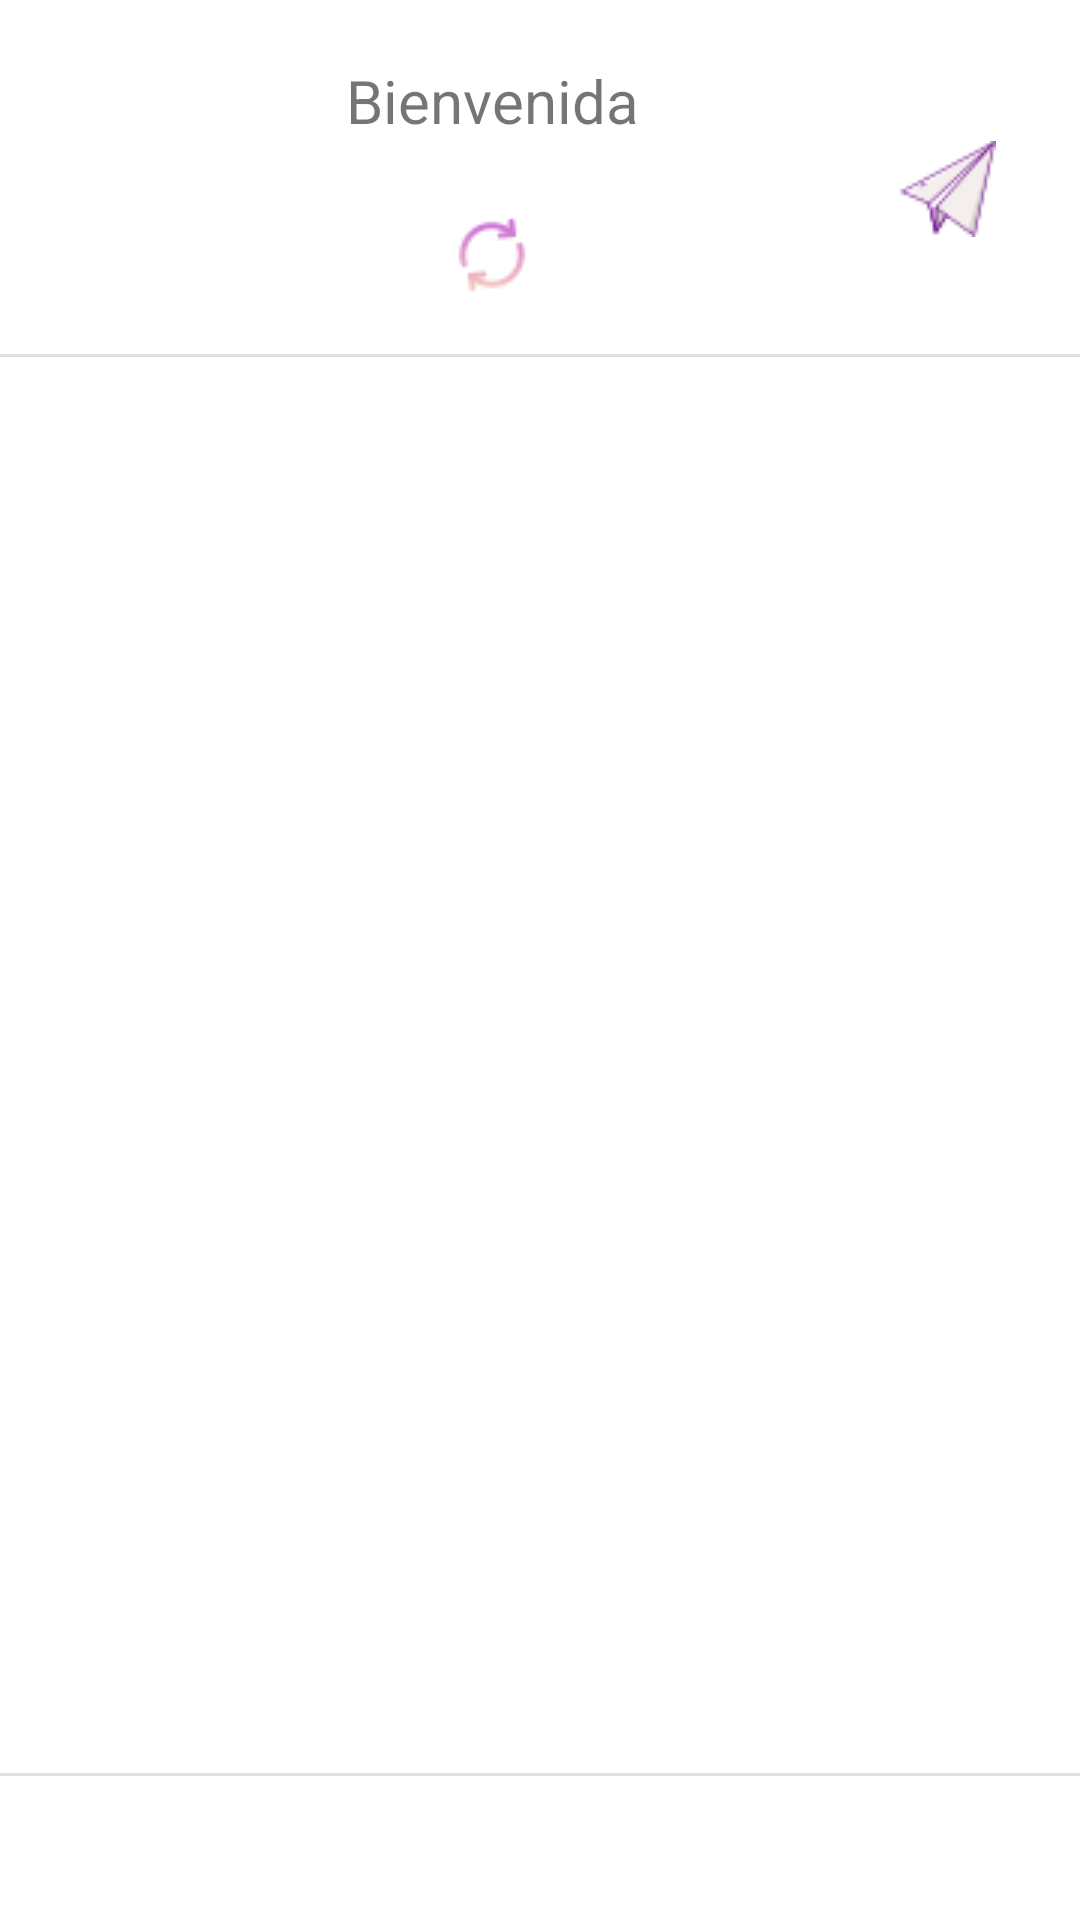

Icon bounding boxes for this 1080px x 1920px phone screenshot, format {"left": x1, "top": y1, "right": x2, "bottom": y2}:
publish: {"left": 900, "top": 141, "right": 996, "bottom": 237}
reload: {"left": 458, "top": 218, "right": 525, "bottom": 291}
